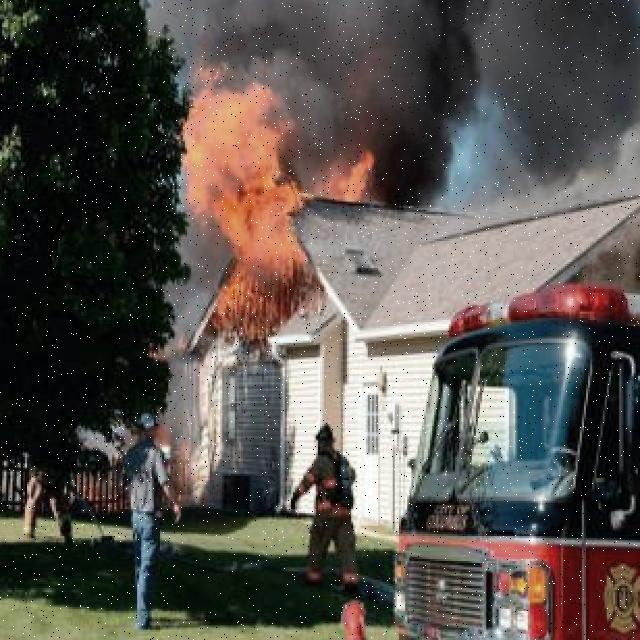fire: (181, 71, 301, 272), (324, 143, 376, 212)
smoke: (375, 0, 498, 220)
